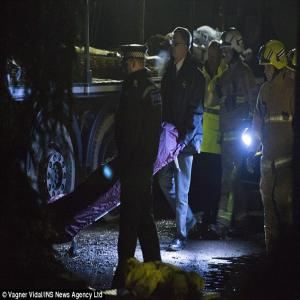none: (169, 27, 193, 67), (123, 45, 149, 80), (207, 38, 223, 72)
white: (220, 27, 245, 65)
yellow: (258, 42, 287, 82)
